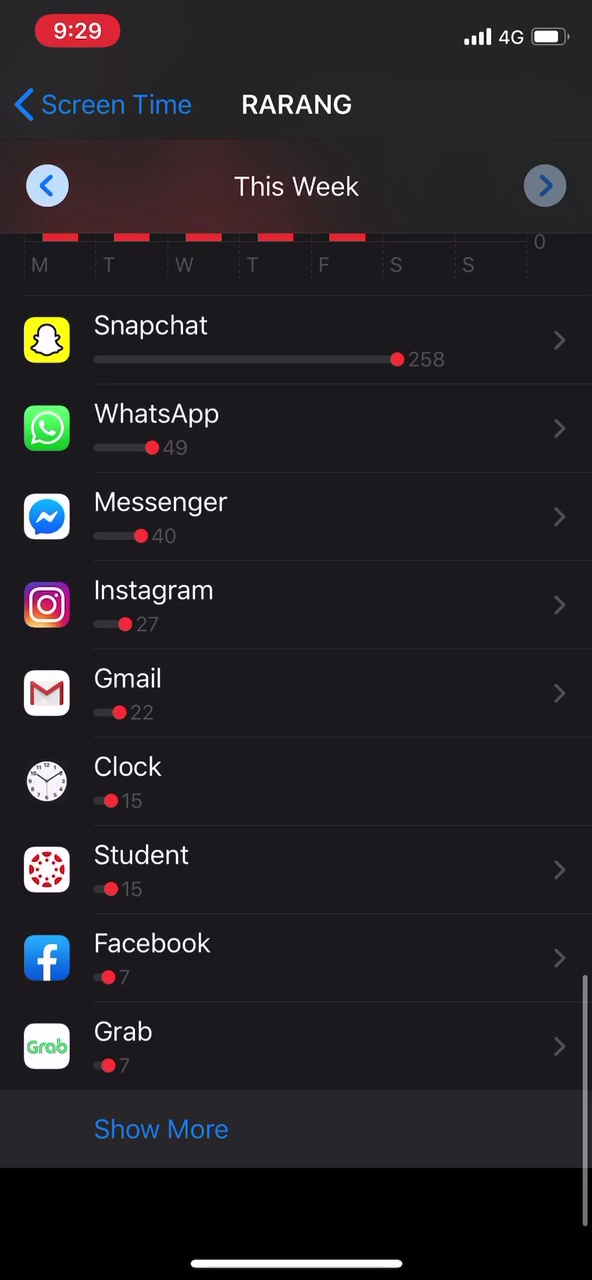not_app: (14, 289, 476, 377), (17, 835, 253, 911), (22, 572, 273, 641), (17, 396, 267, 461), (20, 488, 276, 550), (17, 927, 247, 992), (18, 661, 212, 733), (23, 1008, 214, 1074), (18, 753, 217, 816)
week: (229, 170, 368, 202)
